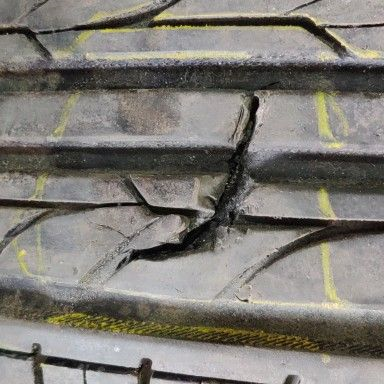tr: (72, 92, 267, 282)
